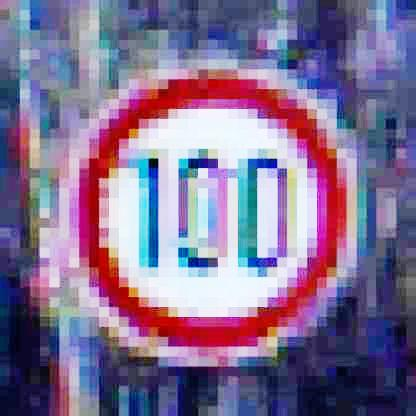Speed Limit -100-: (60, 64, 355, 363)
